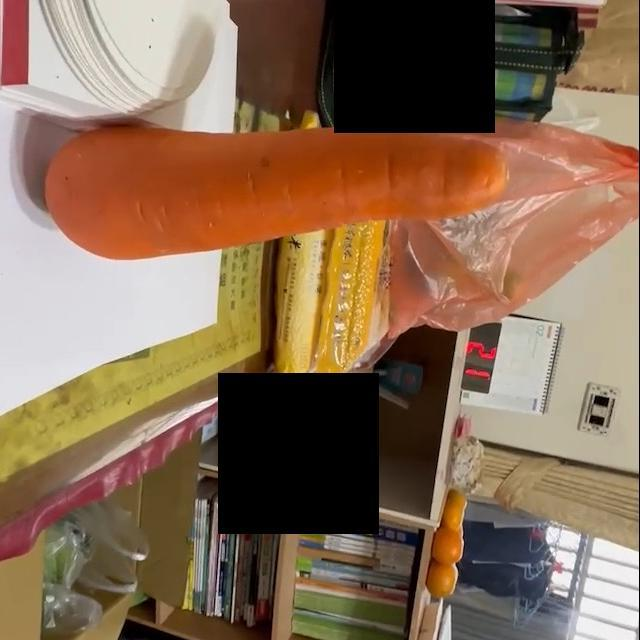carrot: (43, 126, 510, 264)
